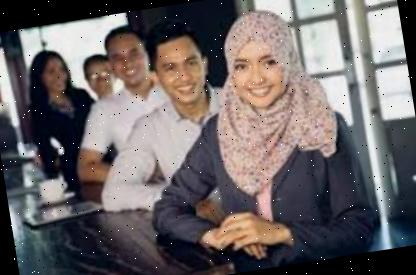person: (178, 0, 381, 274), (132, 11, 242, 223), (61, 15, 171, 186), (13, 36, 107, 194)
